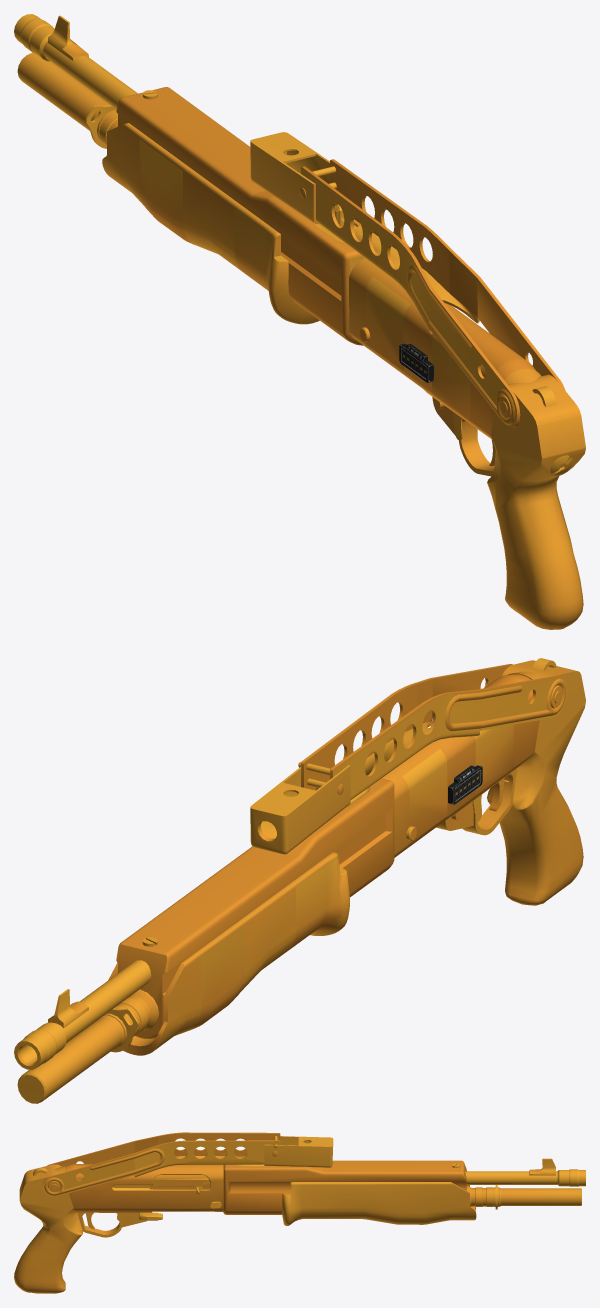
Rendered from spas.glb.
The picture shows the model from 3 angles, top to bottom: view 1: azimuth 30°, elevation 25°; view 2: azimuth 150°, elevation 25°; view 3: azimuth 270°, elevation 25°; orthographic projection. The views are drawn at different scales.
Parts seen in each view (by area): view 1: LOD_Template.001, Gunlock2, Sticker1, Sticker3, Sticker2, Sticker4, StatTrack.003; view 2: LOD_Template.001, Gunlock2, Sticker1, Sticker3, Sticker2, Sticker4, StatTrack.003; view 3: LOD_Template.001, Gunlock2, Gunlock1.001.
Part boxes in pixels (bbox=[...]): LOD_Template.001: bbox=[14, 14, 585, 629]; Gunlock2: bbox=[102, 123, 319, 324]; Sticker1: bbox=[139, 139, 193, 244]; Sticker3: bbox=[362, 276, 410, 373]; Sticker2: bbox=[234, 208, 273, 291]; Sticker4: bbox=[432, 334, 471, 422]; StatTrack.003: bbox=[399, 343, 433, 382]; LOD_Template.001: bbox=[14, 658, 585, 1103]; Gunlock2: bbox=[108, 852, 349, 1055]; Sticker1: bbox=[190, 925, 244, 1030]; Sticker3: bbox=[402, 749, 447, 845]; Sticker2: bbox=[289, 858, 341, 949]; Sticker4: bbox=[474, 725, 513, 798]; StatTrack.003: bbox=[448, 765, 482, 804]; LOD_Template.001: bbox=[14, 1132, 585, 1293]; Gunlock2: bbox=[282, 1182, 476, 1225]; Gunlock1.001: bbox=[149, 1175, 210, 1194].
Size of the model in its own units: 0.0708 by 0.2437 by 0.8224.
6 materials, 6 textured.
